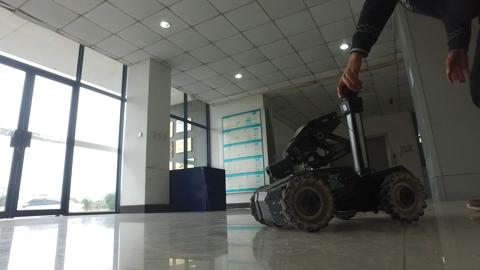chariot: (242, 86, 438, 235)
